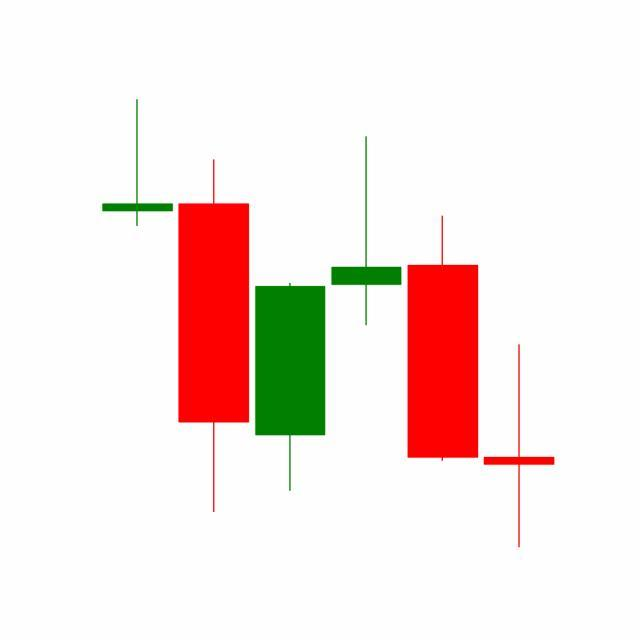Three Outside Up-Down: (326, 132, 555, 548)
